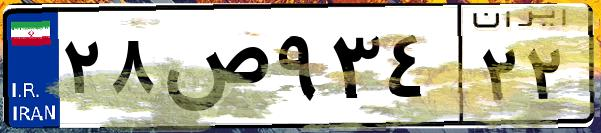2: (57, 26, 110, 100), (475, 38, 525, 113), (525, 38, 570, 115)
3: (330, 28, 385, 110)
4: (385, 28, 445, 110)
8: (110, 28, 158, 98)
9: (270, 28, 330, 110)
ص: (158, 20, 270, 120)
